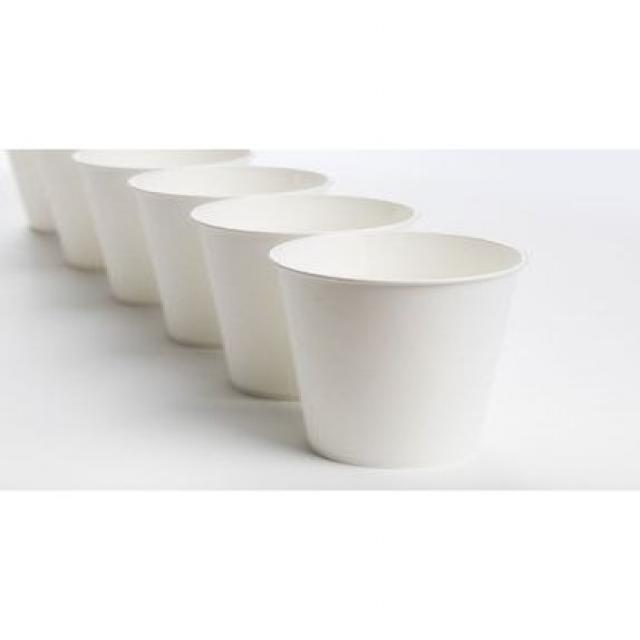trash: (214, 221, 574, 475)
